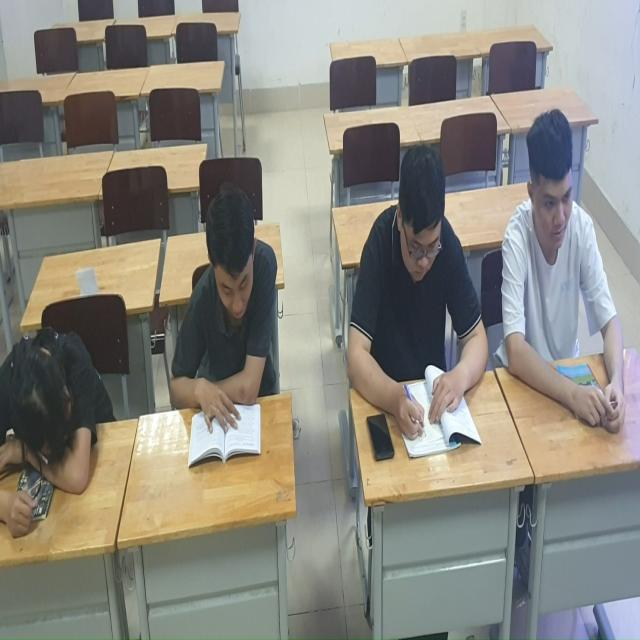read: (345, 141, 500, 475), (509, 109, 640, 441), (170, 182, 283, 470)
sleep: (1, 314, 115, 513)
